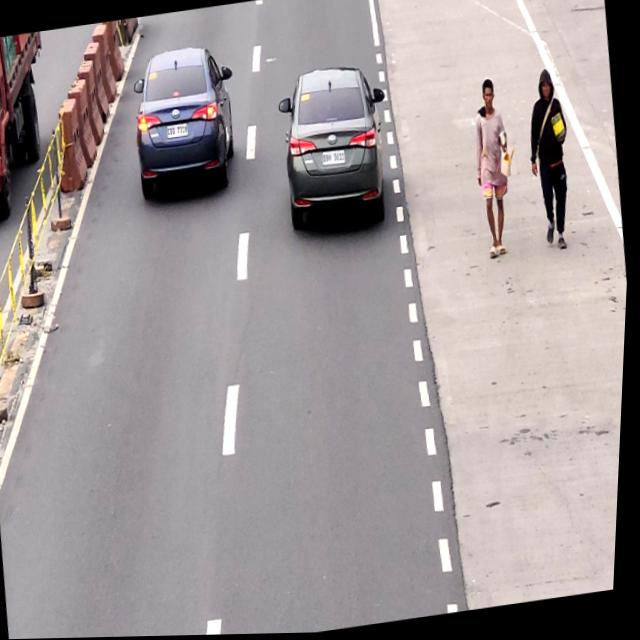Car: (275, 63, 396, 243), (126, 40, 242, 196)
License-Plate: (323, 150, 348, 170), (165, 123, 190, 142)
